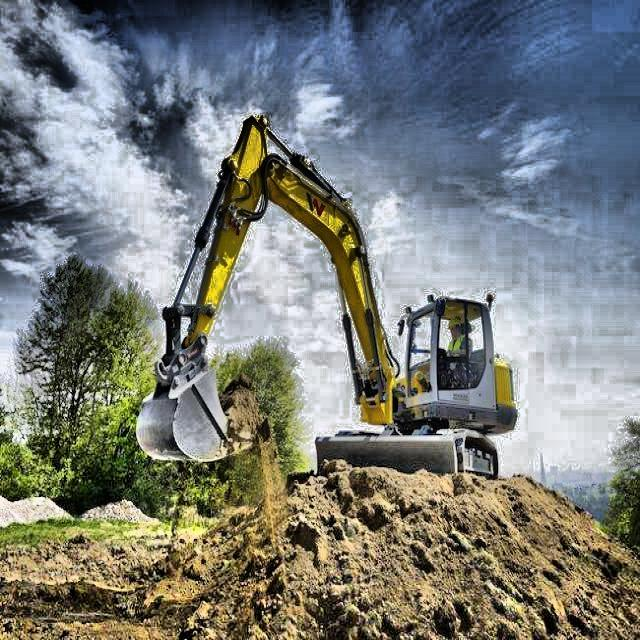excavator: (134, 114, 520, 478)
